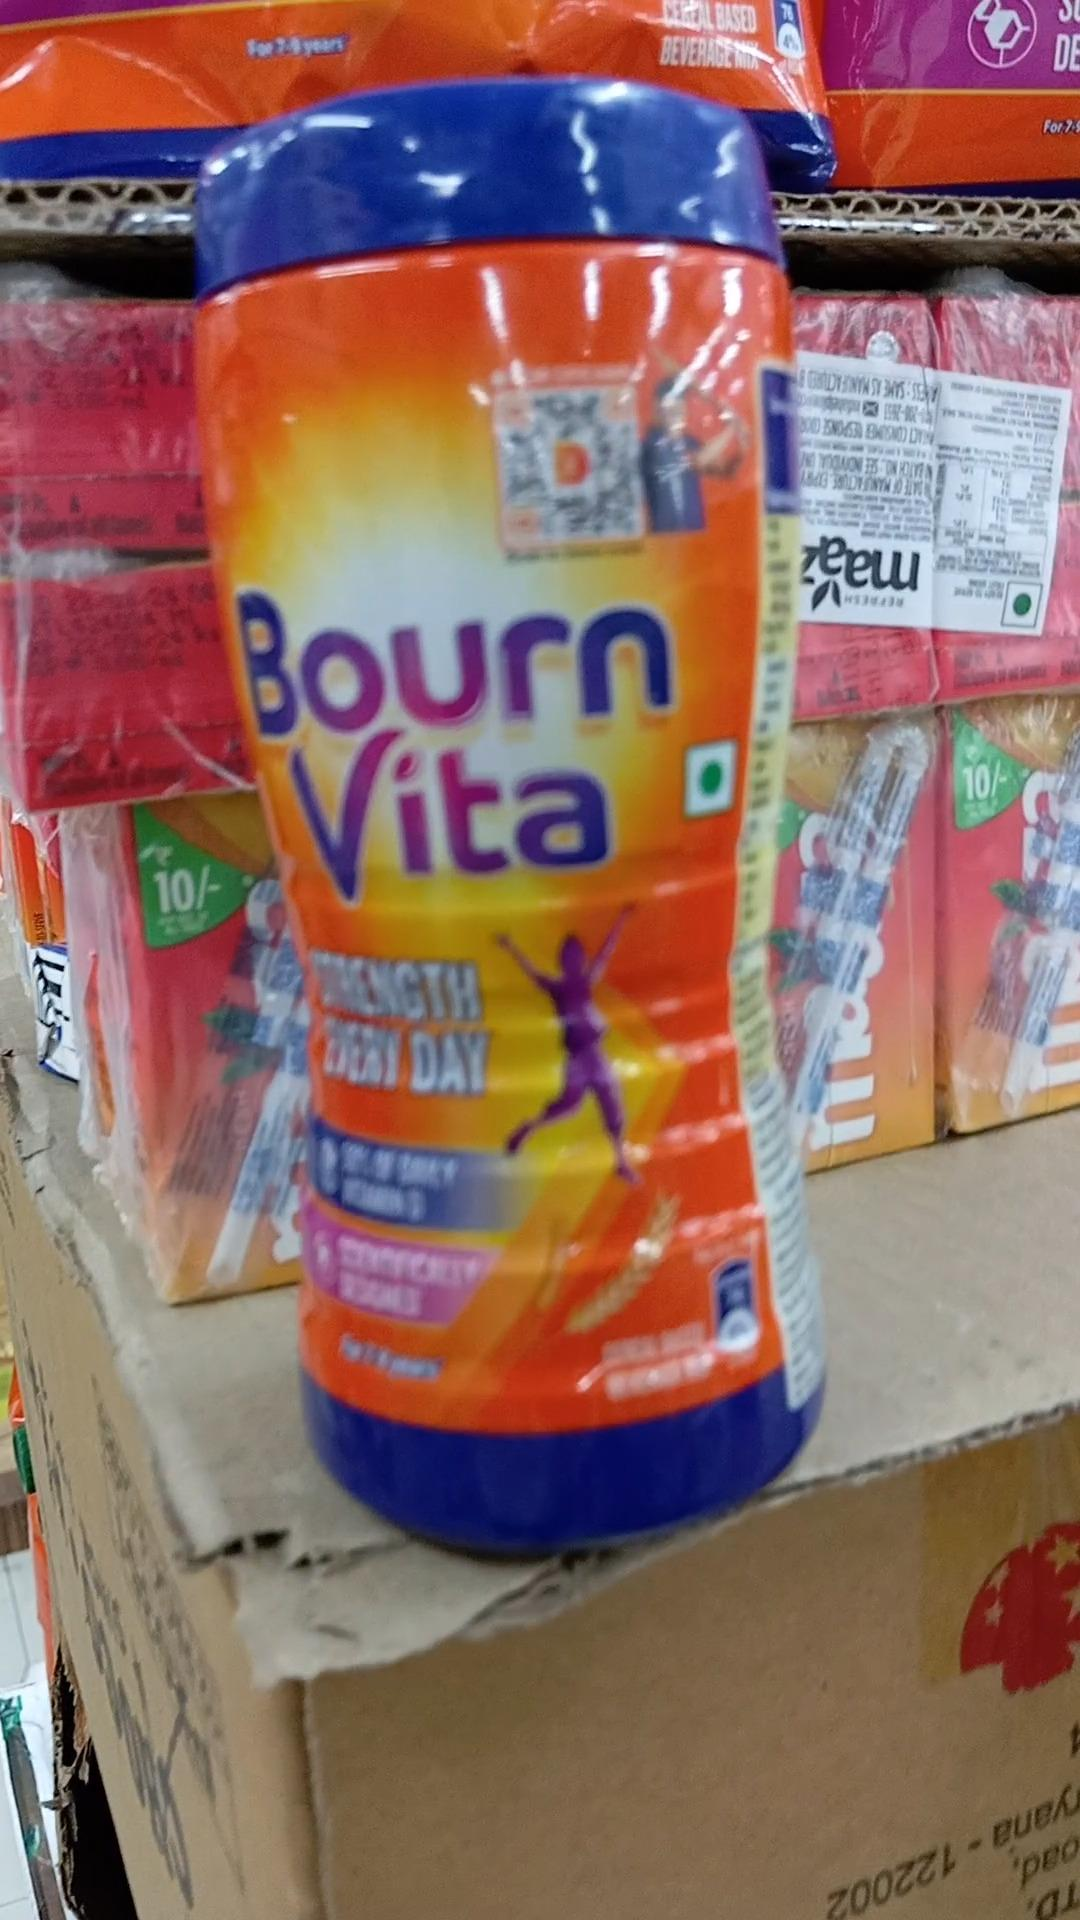BOURN_VITA_200_G_JAR: (220, 80, 820, 1530)
